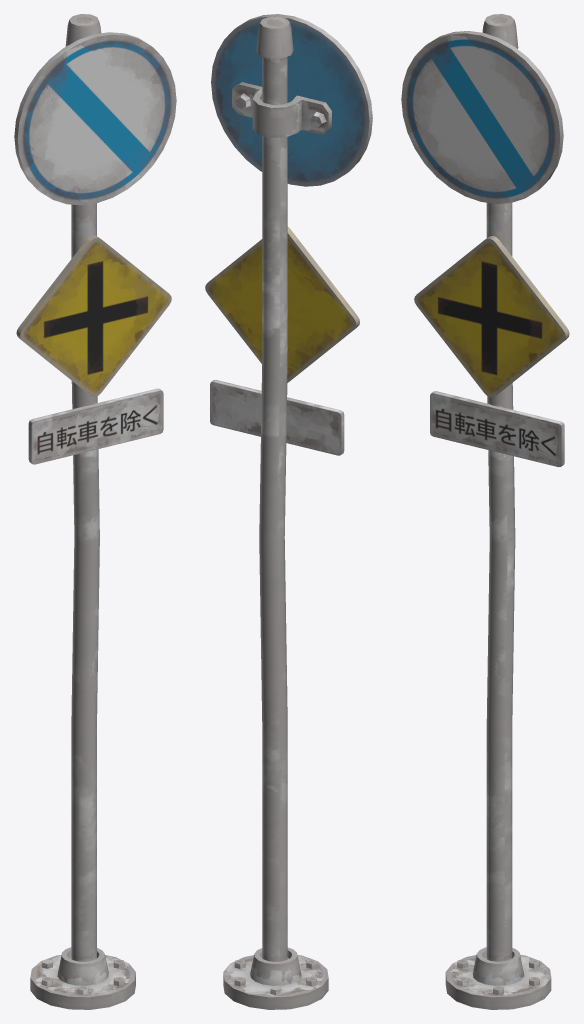
Rendered from SM_roadsign_08.fbx.
3 renders of one model, left to right at view 1: azimuth 30°, elevation 25°; view 2: azimuth 150°, elevation 25°; view 3: azimuth 330°, elevation 25°, orthographic.
Visible parts, largest first — view 1: Object32305; view 2: Object32305; view 3: Object32305.
Part boxes in pixels (x1=…): Object32305: x1=14, y1=14, x2=176, y2=1009; Object32305: x1=205, y1=14, x2=372, y2=1009; Object32305: x1=401, y1=14, x2=569, y2=1009.
Bounding box in the file's own units: 19.65 × 114 × 11.39.
